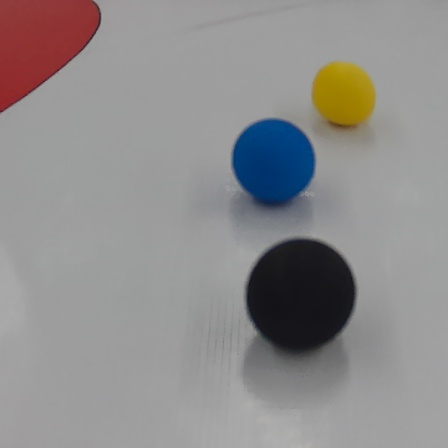black: (244, 235, 356, 353)
blue: (226, 115, 319, 207)
red_base: (1, 0, 102, 114)
yellow: (310, 60, 377, 128)
